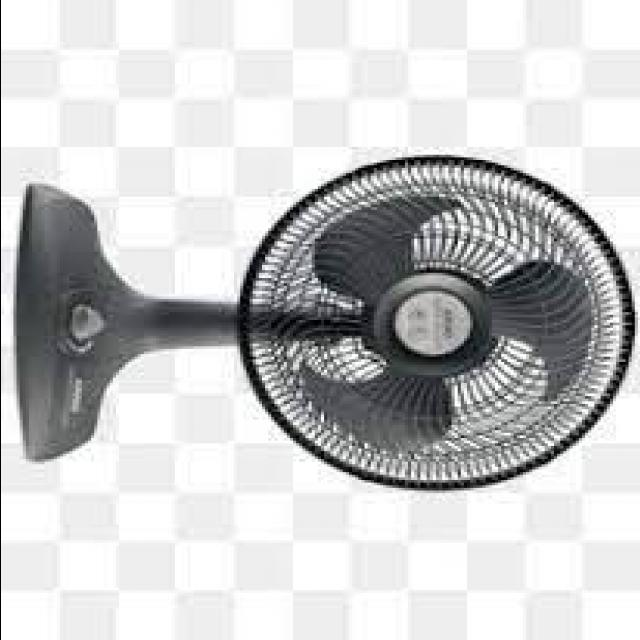fan: (19, 154, 632, 492)
